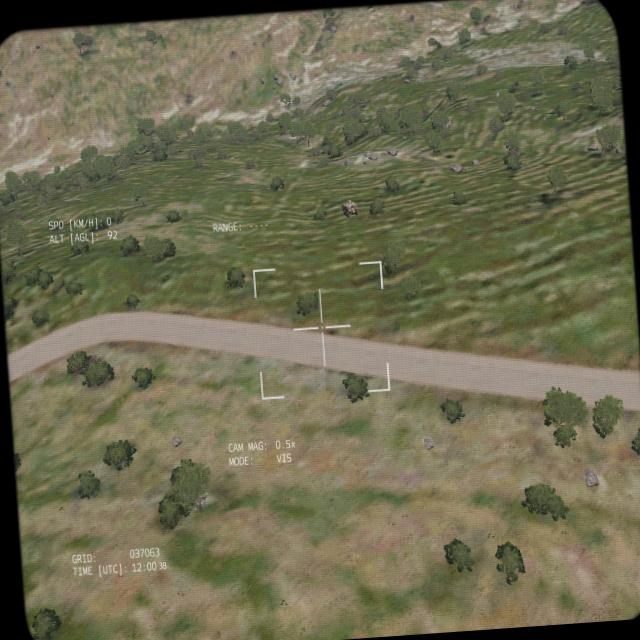apc: (340, 198, 358, 218)
